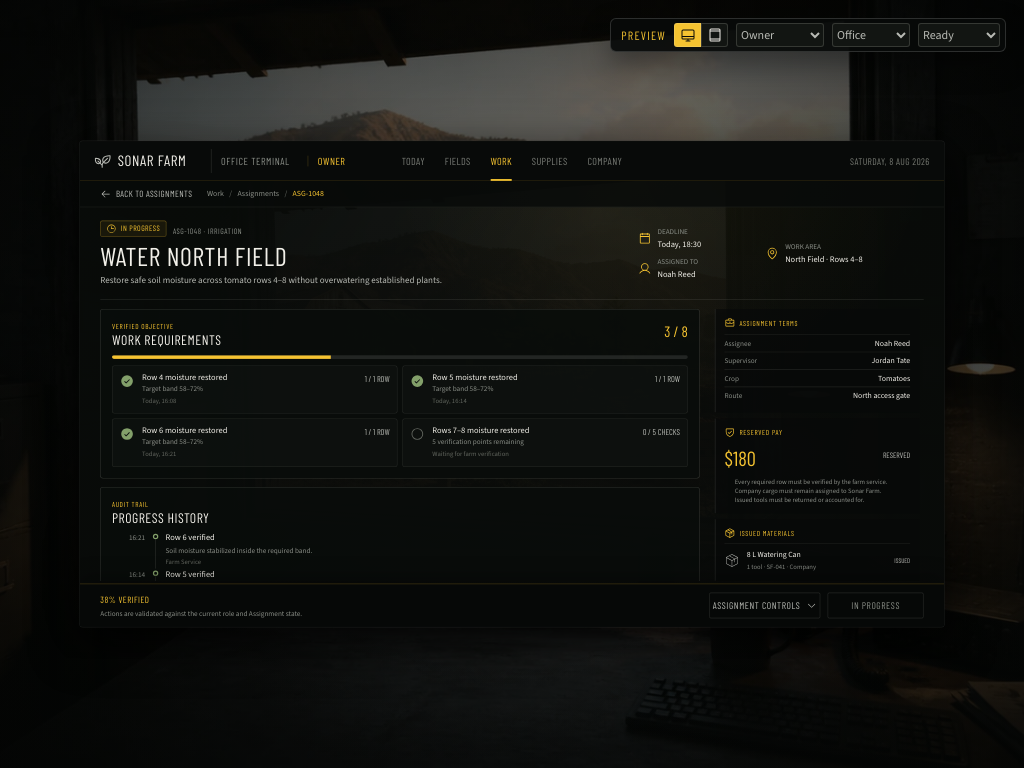
Test: Farm Business Hub › shows Restricted after live permission loss
The image size is (1024, 768).
Expected: the heading "Water North Field" is shown, [100, 240, 287, 272]
Select "visitor" in the dropdown named "Preview role" at (780, 35), box [736, 23, 824, 47]
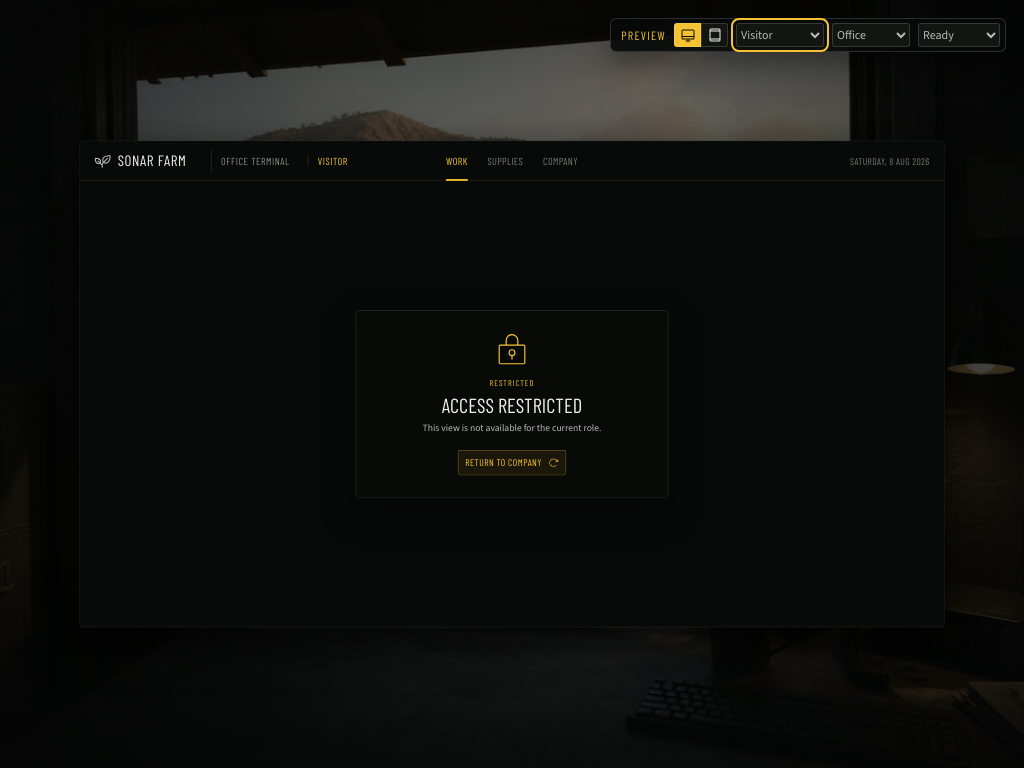
Expected: the heading "Access restricted" is shown, [442, 395, 582, 415]
